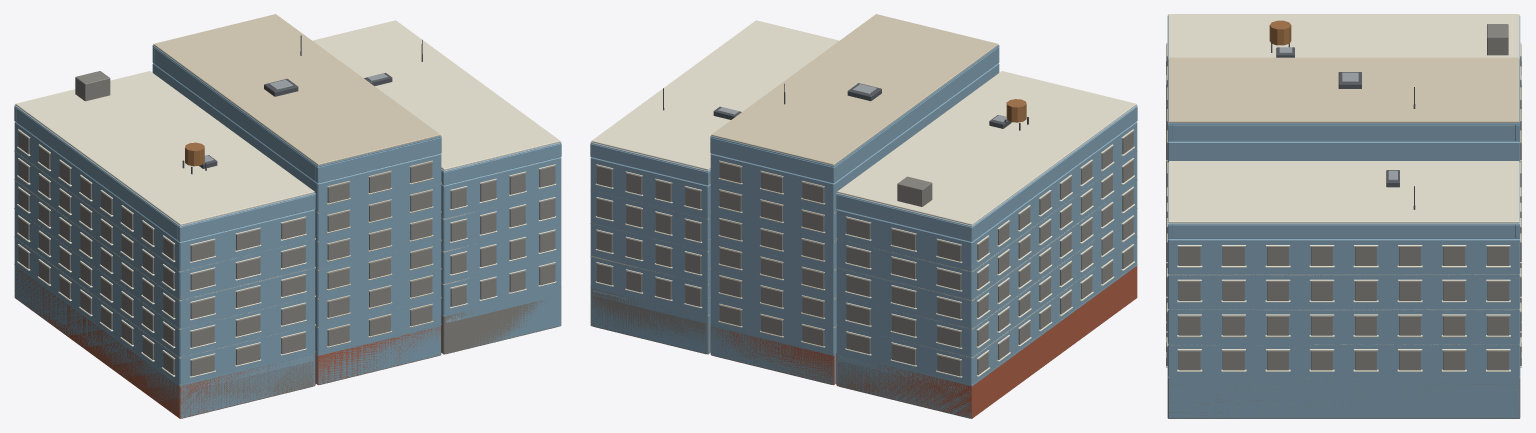
Rendered from VG_Bld_Commercial_03.fbx.
3 views of the same model, side by side, from view 1: azimuth 30°, elevation 25°; view 2: azimuth 150°, elevation 25°; view 3: azimuth 270°, elevation 25° (orthographic). The views are drawn at different scales.
Parts seen in each view (by area): view 1: VG_Bld_Commercial_03_Body; view 2: VG_Bld_Commercial_03_Body; view 3: VG_Bld_Commercial_03_Body.
Part boxes in pixels (left/top/right/bottom): VG_Bld_Commercial_03_Body: left=14, top=14, right=561, bottom=418; VG_Bld_Commercial_03_Body: left=590, top=14, right=1137, bottom=418; VG_Bld_Commercial_03_Body: left=1166, top=14, right=1521, bottom=418.
Bounding box in the file's own units: 48 × 28.69 × 36.
